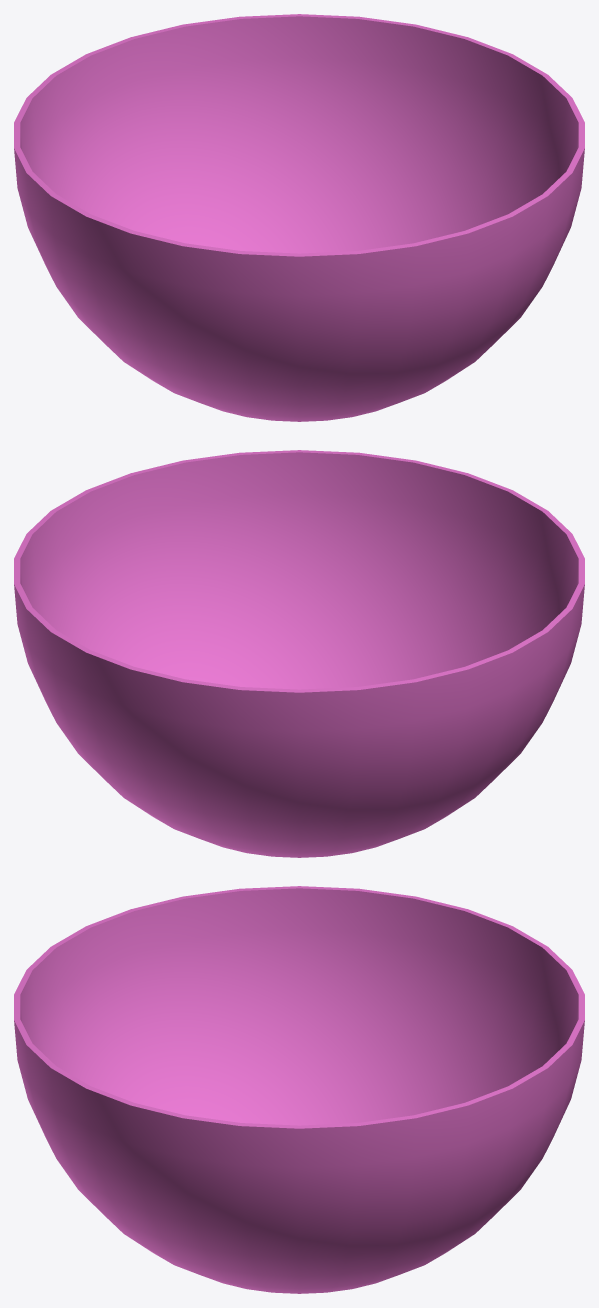
Rendered from Bowl.fbx.
3 views of the same model, one above another, from view 1: azimuth 30°, elevation 25°; view 2: azimuth 150°, elevation 25°; view 3: azimuth 270°, elevation 25° (orthographic).
Visible parts, largest first — view 1: pSphere1; view 2: pSphere1; view 3: pSphere1.
Part boxes in pixels (x1,y1,x2,y2): pSphere1: (14, 14, 584, 421); pSphere1: (14, 450, 584, 857); pSphere1: (14, 886, 584, 1293).
Size of the model in its own units: 9.51 by 4.76 by 9.46.
